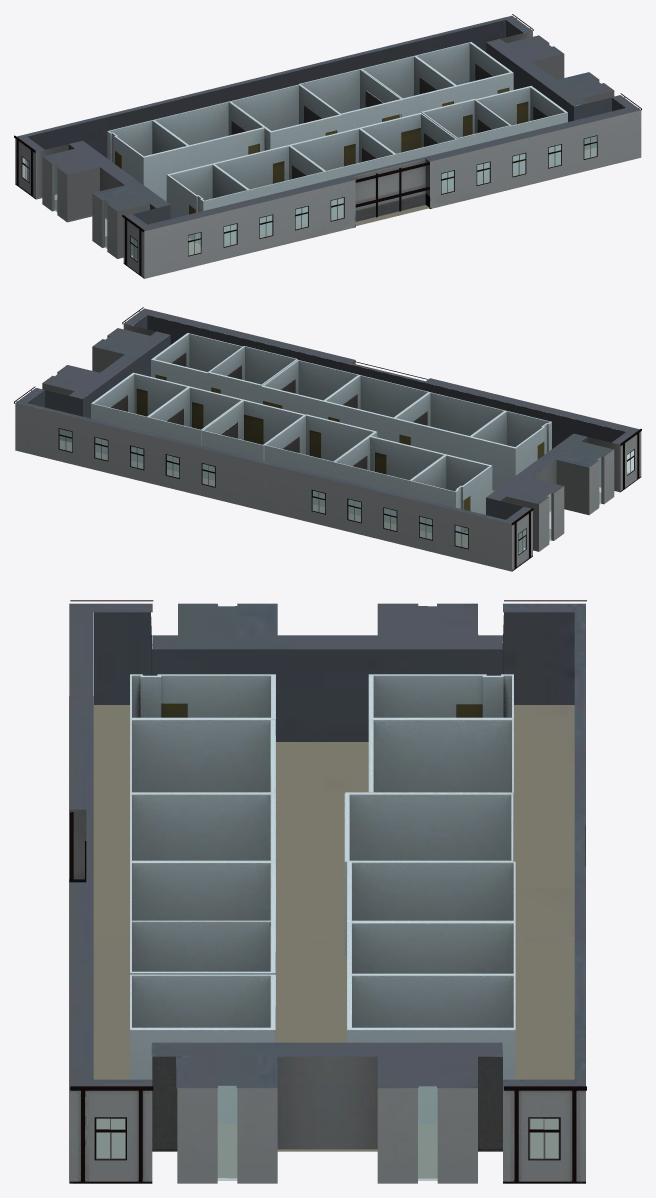
3 views of the same model, one above another, from view 1: azimuth 30°, elevation 25°; view 2: azimuth 150°, elevation 25°; view 3: azimuth 270°, elevation 25° (orthographic). The views are drawn at different scales.
Visible parts, largest first — view 1: floor_2_0, room_11_12, room_10_11, room_12_13, room_05_6, room_09_10, room_04_5, room_07_8, room_06_7, room_08_9, room_03_4, room_01_2 (+1 smaller); view 2: floor_2_0, room_05_6, room_11_12, room_10_11, room_06_7, room_04_5, room_09_10, room_12_13, room_07_8, room_03_4, room_08_9, room_01_2 (+1 smaller); view 3: floor_2_0, room_07_8, room_10_11, room_01_2, room_11_12, room_05_6, room_09_10, room_04_5, room_08_9, room_03_4, room_02_3, room_06_7 (+1 smaller).
Boxes of the visible parts, box(x1,y1,x2,y2) form: floor_2_0: box(14, 14, 641, 278); room_11_12: box(153, 101, 271, 168); room_10_11: box(230, 84, 341, 148); room_12_13: box(107, 120, 189, 199); room_05_6: box(213, 145, 325, 234); room_09_10: box(298, 69, 402, 131); room_04_5: box(289, 128, 395, 216); room_07_8: box(415, 42, 513, 102); room_06_7: box(166, 163, 248, 246); room_08_9: box(361, 55, 456, 116); room_03_4: box(359, 112, 457, 189); room_01_2: box(476, 85, 567, 172); floor_2_0: box(14, 307, 641, 571); room_05_6: box(393, 392, 505, 459); room_11_12: box(334, 431, 445, 524); room_10_11: box(264, 414, 375, 506); room_06_7: box(469, 410, 551, 490); room_04_5: box(323, 375, 429, 440); room_09_10: box(202, 399, 305, 480); room_12_13: box(410, 454, 492, 538); room_07_8: box(91, 372, 189, 462); room_03_4: box(261, 360, 359, 418); room_08_9: box(147, 386, 243, 471); room_01_2: box(151, 333, 242, 390); floor_2_0: box(69, 600, 586, 1183); room_07_8: box(347, 974, 515, 1123); room_10_11: box(344, 793, 513, 955); room_01_2: box(130, 974, 275, 1123); room_11_12: box(345, 719, 513, 861); room_05_6: box(130, 719, 275, 793); room_09_10: box(347, 861, 515, 921); room_04_5: box(130, 793, 275, 861); room_08_9: box(347, 922, 515, 974); room_03_4: box(130, 861, 275, 920); room_02_3: box(130, 920, 275, 974); room_06_7: box(130, 674, 275, 735).
Bounding box in the file's own units: 0.4319 × 0.0413 × 0.1942.
Materials: 26 (25 with a texture image).
